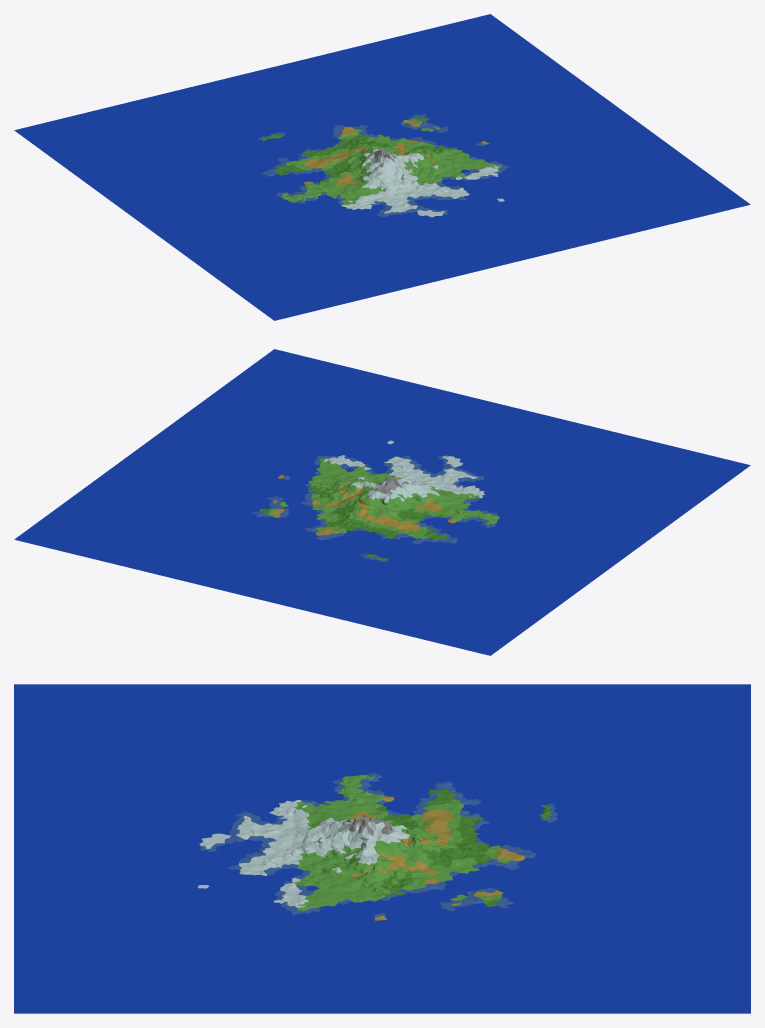
File: Island.glb
3 views of the same model, one above another, from view 1: azimuth 30°, elevation 25°; view 2: azimuth 150°, elevation 25°; view 3: azimuth 270°, elevation 25° (orthographic). The views are drawn at different scales.
Visible parts, largest first — view 1: MapMesh_Clone_.002, MapMesh_Clone_.001; view 2: MapMesh_Clone_.002, MapMesh_Clone_.001; view 3: MapMesh_Clone_.002, MapMesh_Clone_.001.
Boxes of the visible parts, <box> form: MapMesh_Clone_.002: <box>14,14,750,320</box>; MapMesh_Clone_.001: <box>248,110,523,218</box>; MapMesh_Clone_.002: <box>14,349,750,655</box>; MapMesh_Clone_.001: <box>242,439,507,565</box>; MapMesh_Clone_.002: <box>14,684,750,1013</box>; MapMesh_Clone_.001: <box>194,772,564,922</box>.
Bounding box in the file's own units: 195 × 8.11 × 185.
